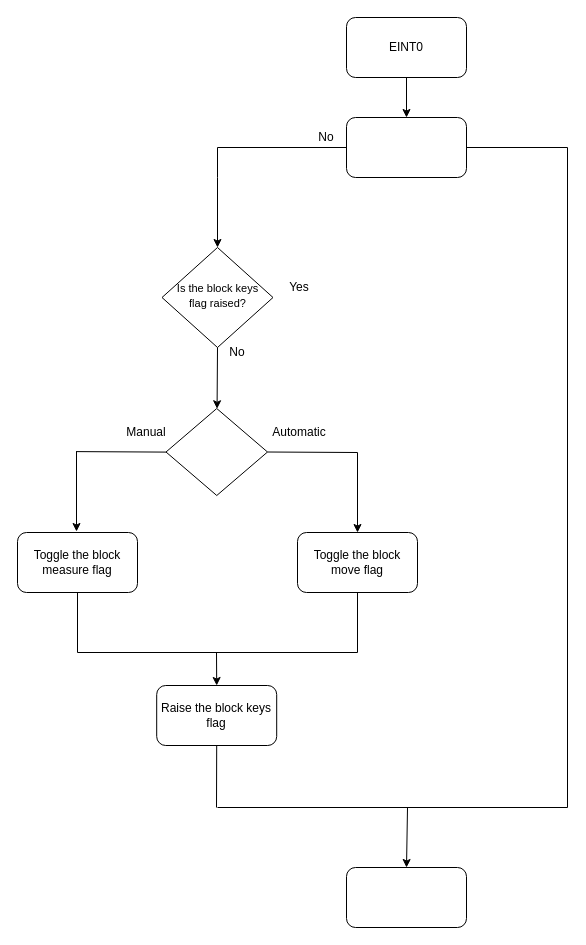
Image size: 586x945. Some labels were removed from this diagram. Here are the shapes that lost their labels. From the top down, the centre of each, then its label:
pixel 406 147: Clear EXTINT Flag
pixel 216 452: State
pixel 406 897: Return the control to the system.
